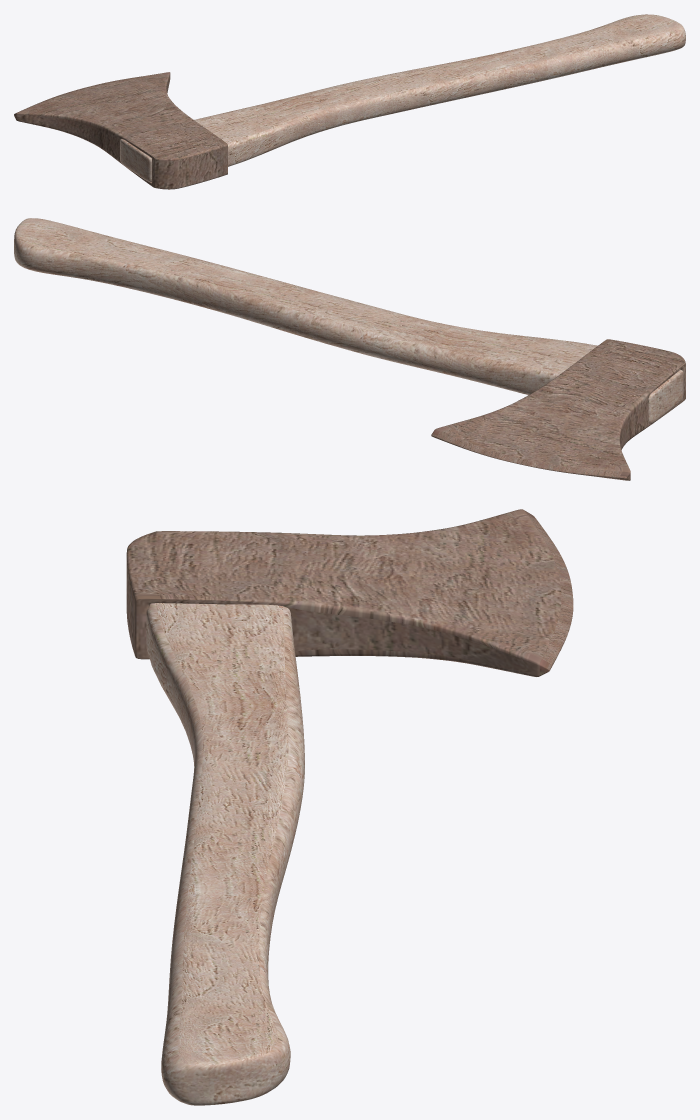
File: wooden_axe.fbx
The picture shows the model from 3 angles, top to bottom: view 1: azimuth 30°, elevation 25°; view 2: azimuth 150°, elevation 25°; view 3: azimuth 270°, elevation 25°; orthographic projection. The views are drawn at different scales.
Parts seen in each view (by area): view 1: wooden_axe; view 2: wooden_axe; view 3: wooden_axe.
Boxes of the visible parts, <box> form: wooden_axe: <box>14,14,685,189</box>; wooden_axe: <box>14,218,685,480</box>; wooden_axe: <box>126,509,573,1105</box>.
Size of the model in its own units: 2452 by 124 by 812.
